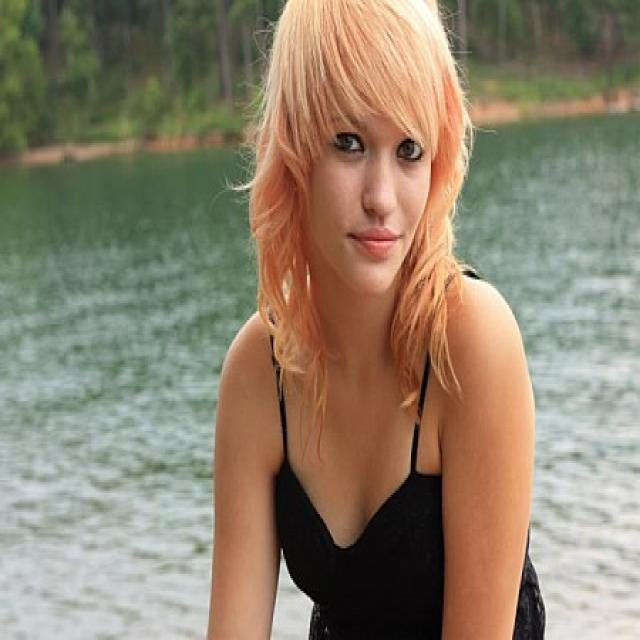Eyes: (310, 99, 444, 187)
